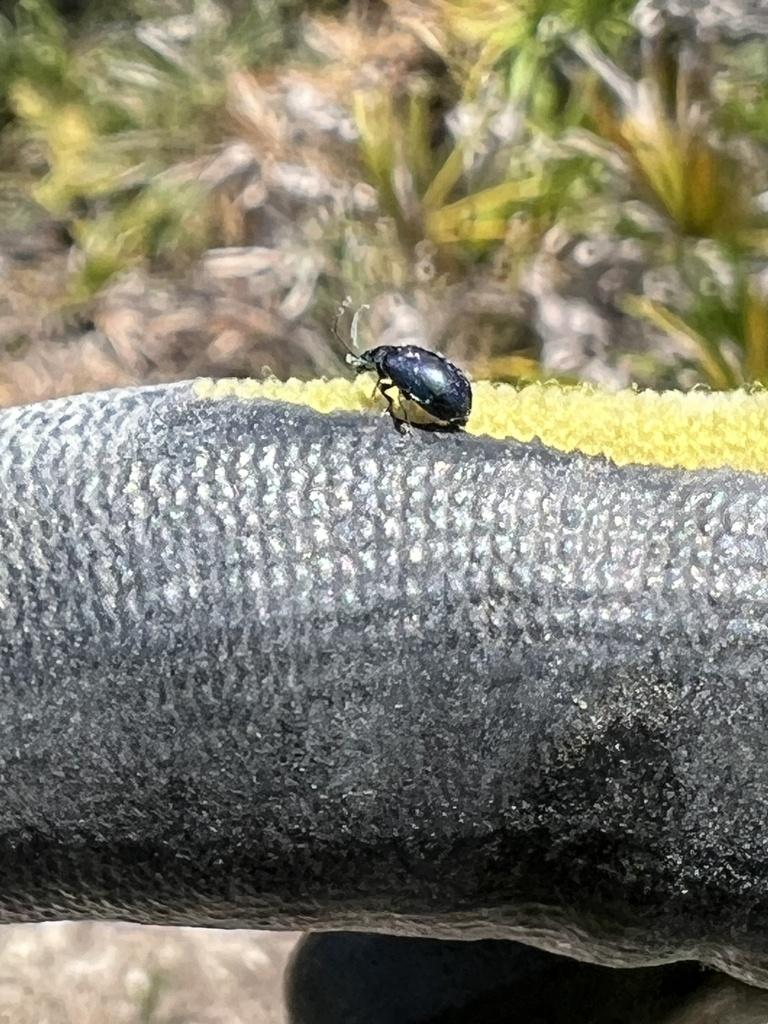flea_beetle: (321, 264, 501, 462)
